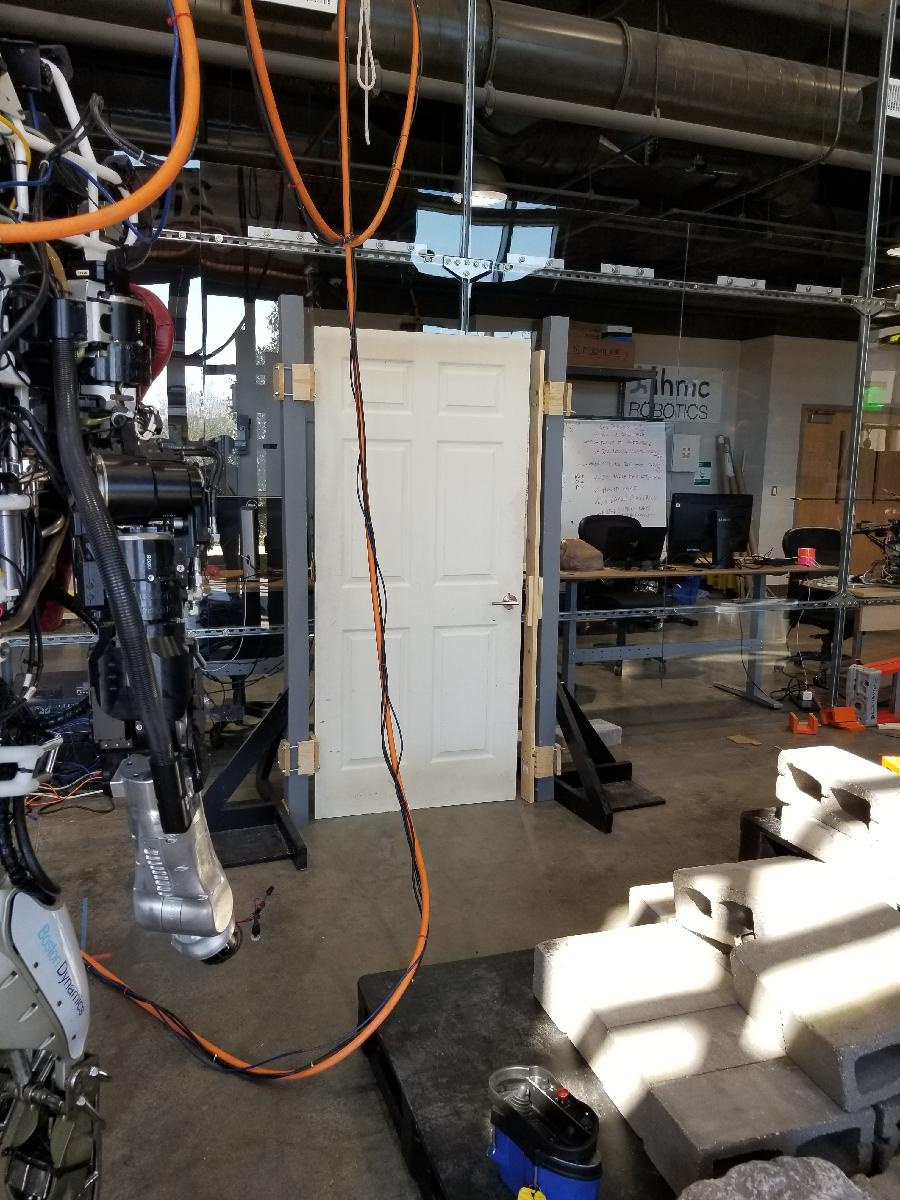door: (306, 320, 534, 821)
doorHandle: (494, 597, 523, 610)
